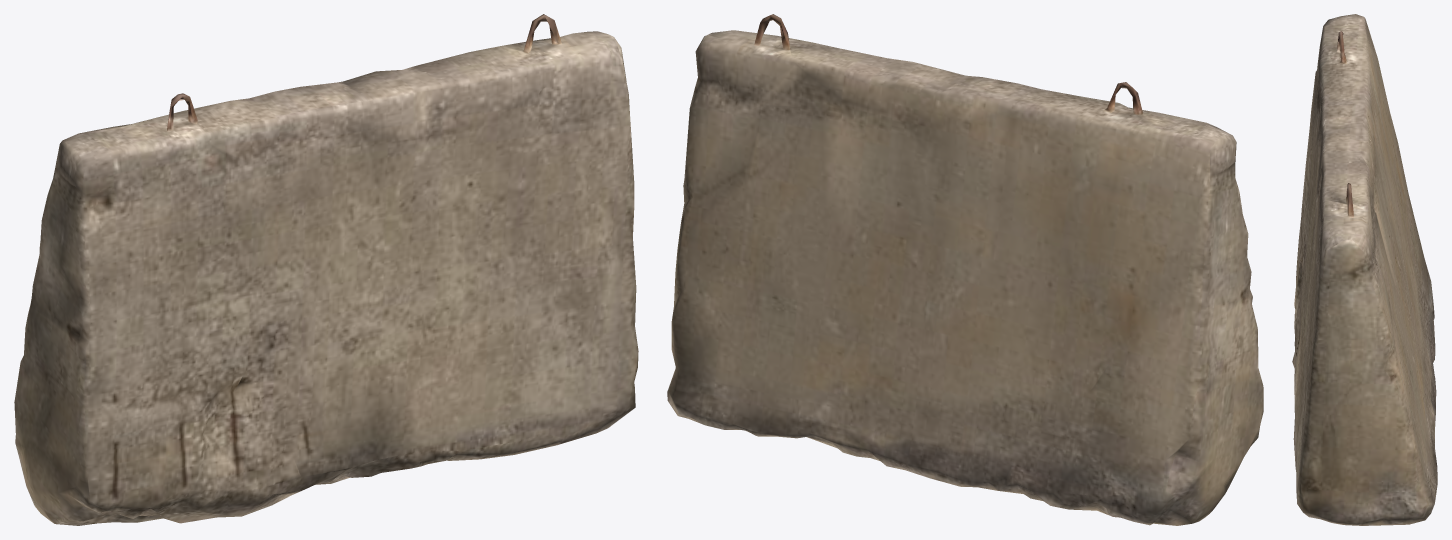
File: concrete_road_barrier_02.glb
3 renders of one model, left to right at view 1: azimuth 30°, elevation 25°; view 2: azimuth 150°, elevation 25°; view 3: azimuth 270°, elevation 25°, orthographic. The views are drawn at different scales.
Visible parts, largest first — view 1: concrete_road_barrier_02; view 2: concrete_road_barrier_02; view 3: concrete_road_barrier_02.
Boxes of the visible parts, <box> form: concrete_road_barrier_02: <box>14,14,638,525</box>; concrete_road_barrier_02: <box>667,14,1263,525</box>; concrete_road_barrier_02: <box>1292,14,1437,525</box>.
Size of the model in its own units: 1.56 by 1.11 by 0.4418.
Materials: 1 (1 with a texture image).
